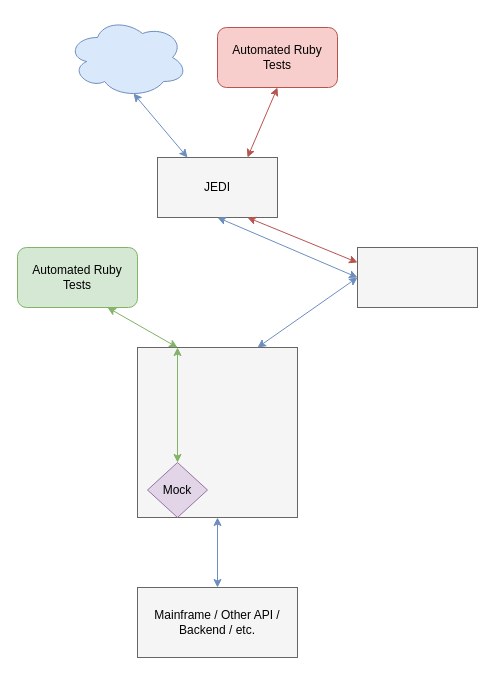
Some shapes in this 495 by 675 pixel diagram are drawn without their labels. Each missing label, with the box of its shape:
eAPI: (136, 346, 298, 518)
Manual Testing: (66, 16, 188, 98)
Wiremock: (356, 246, 478, 308)
